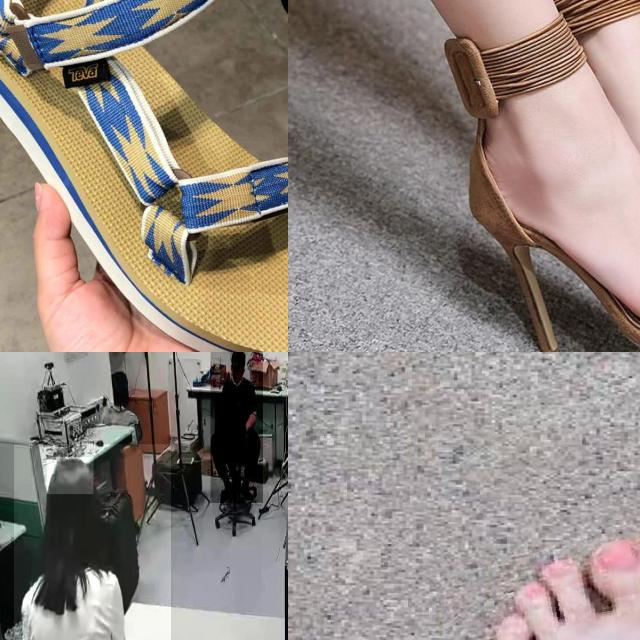Barefoots: (464, 541, 640, 640)
Sandals: (0, 0, 288, 352), (468, 16, 640, 352)
face_nomask: (230, 361, 244, 382)
glasses: (230, 360, 246, 374)
head_nohelmet: (46, 457, 94, 495), (230, 352, 246, 360)
person: (14, 444, 171, 640), (210, 352, 263, 503)
shoes: (218, 477, 234, 503), (240, 482, 256, 508)
